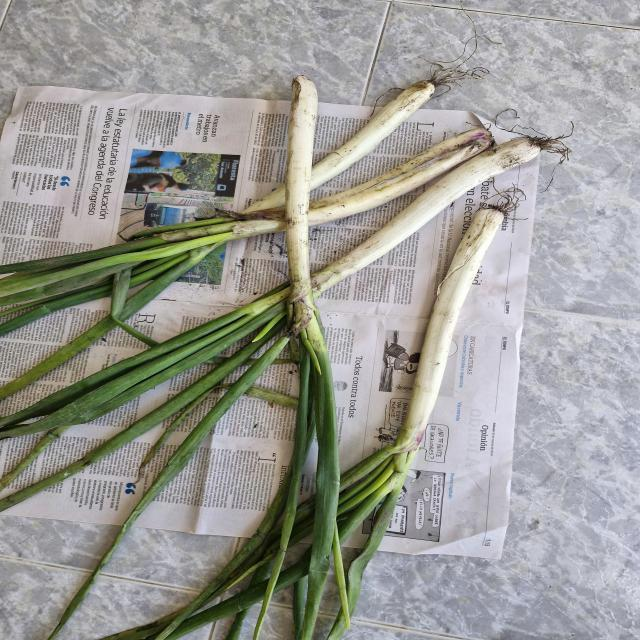green_onion: (323, 198, 501, 640), (274, 70, 374, 640)
